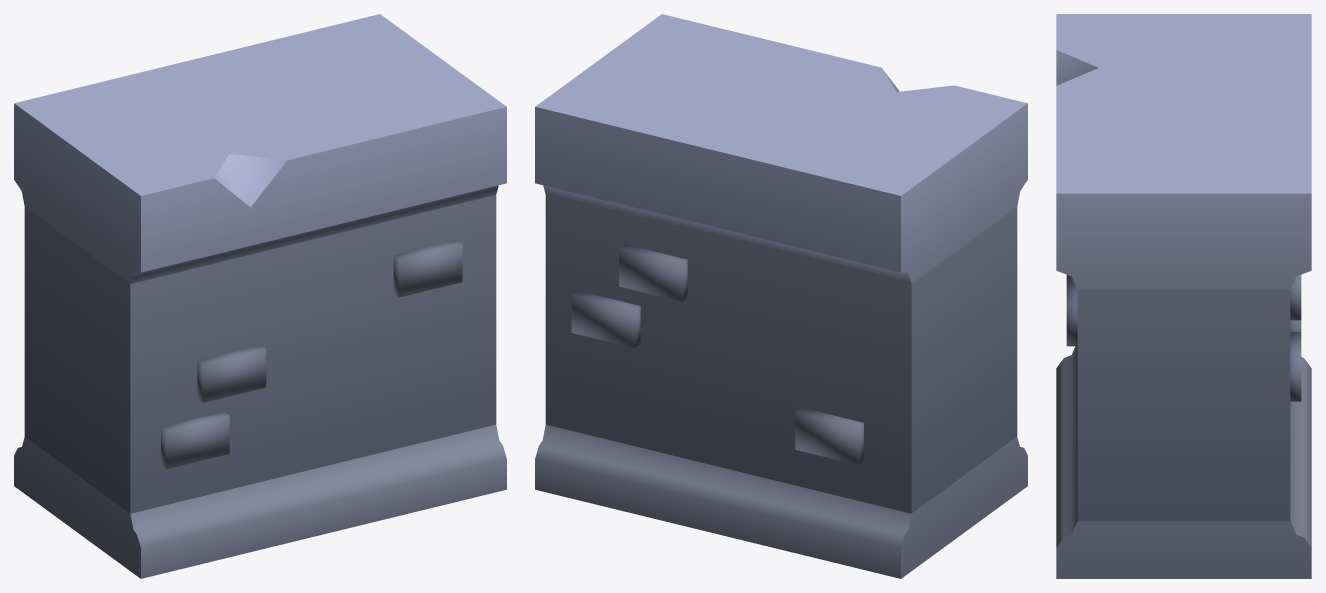
The model's file is wall.glb.
3 renders of one model, left to right at view 1: azimuth 30°, elevation 25°; view 2: azimuth 150°, elevation 25°; view 3: azimuth 270°, elevation 25°, orthographic.
Visible parts, largest first — view 1: wall; view 2: wall; view 3: wall.
Boxes of the visible parts, x1=… form: wall: x1=14, y1=14, x2=506, y2=578; wall: x1=535, y1=14, x2=1027, y2=578; wall: x1=1056, y1=14, x2=1311, y2=578.
Size of the model in its own units: 1 by 1 by 0.6.
1 material, 1 textured.
